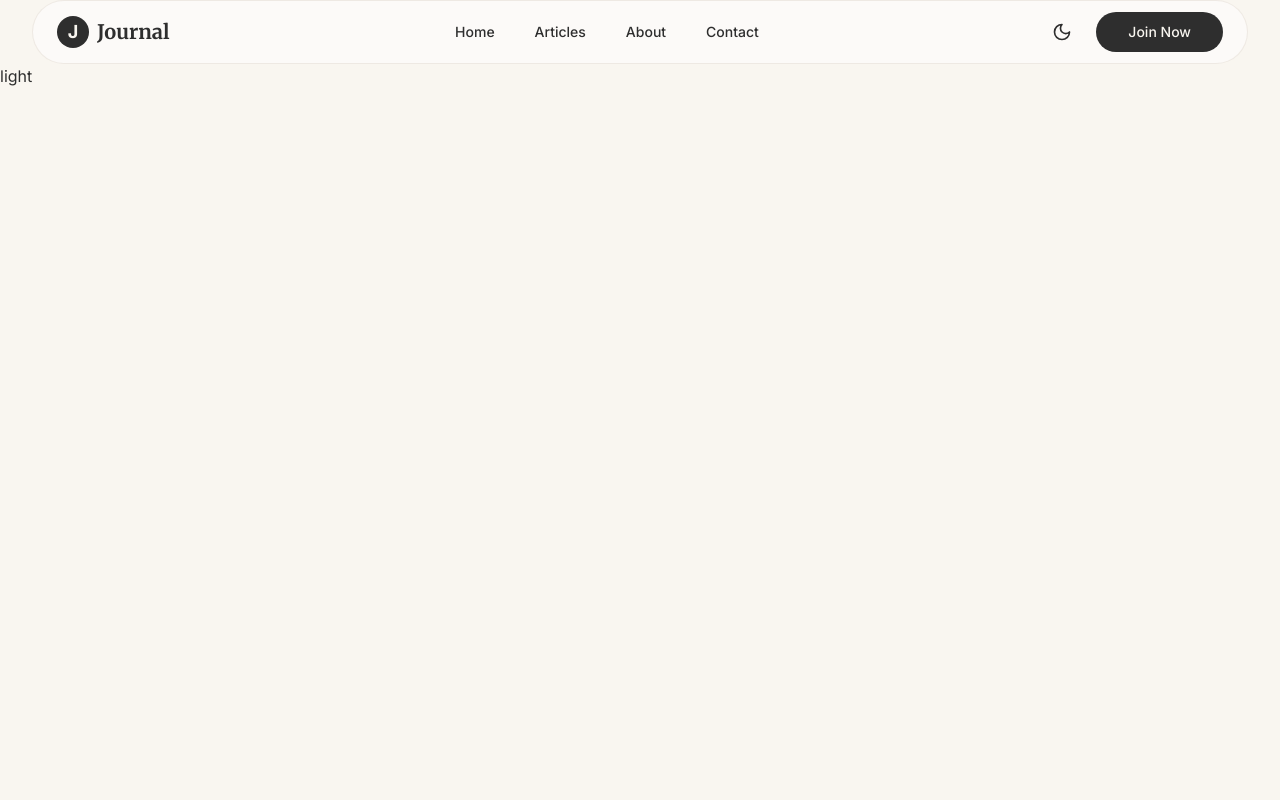
Test case: Navbar › toggles dark mode through the theme provider and remembers the choice
Step 1. Click the button named "Toggle theme" → click(1062, 32), box [1044,14,1080,50]
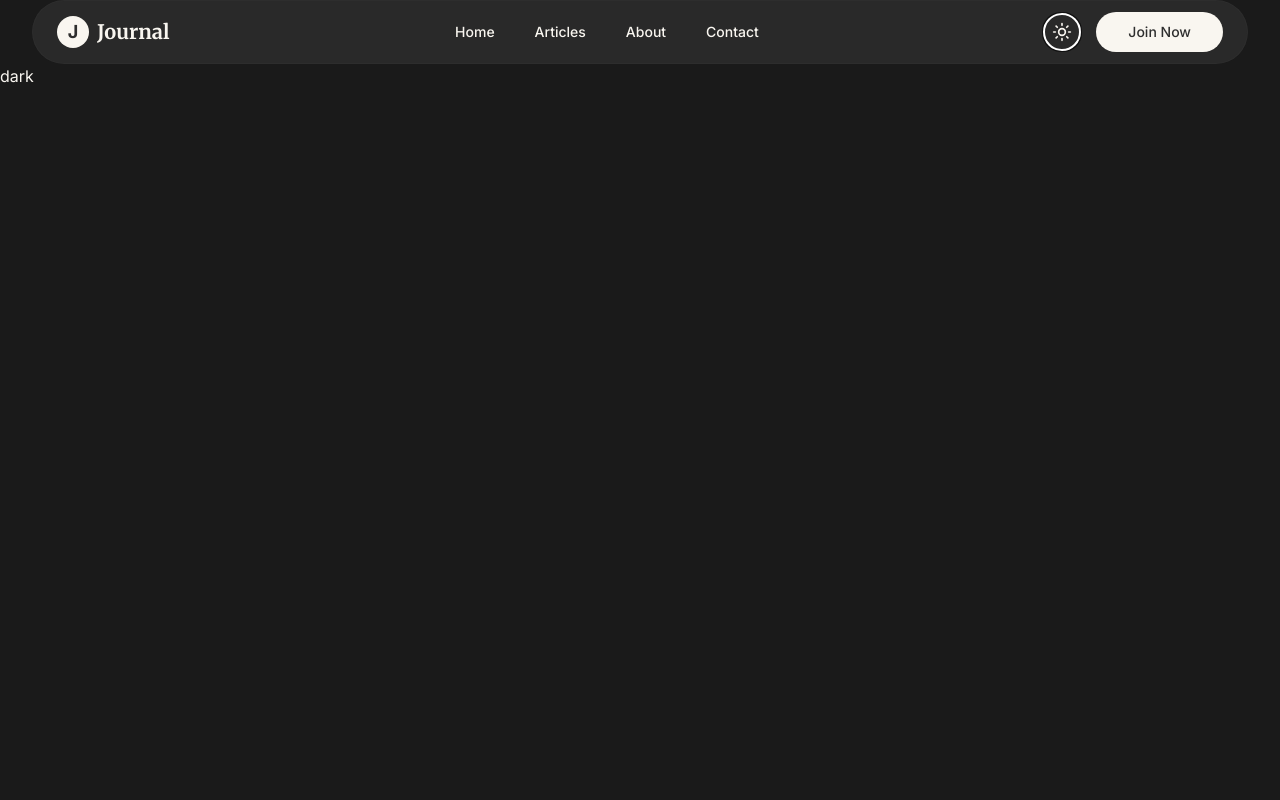
Now the text with test id "resolved-theme" reads "dark", box [0,66,34,86]
Step 2. Click the button named "Toggle theme" → click(1062, 32), box [1044,14,1080,50]
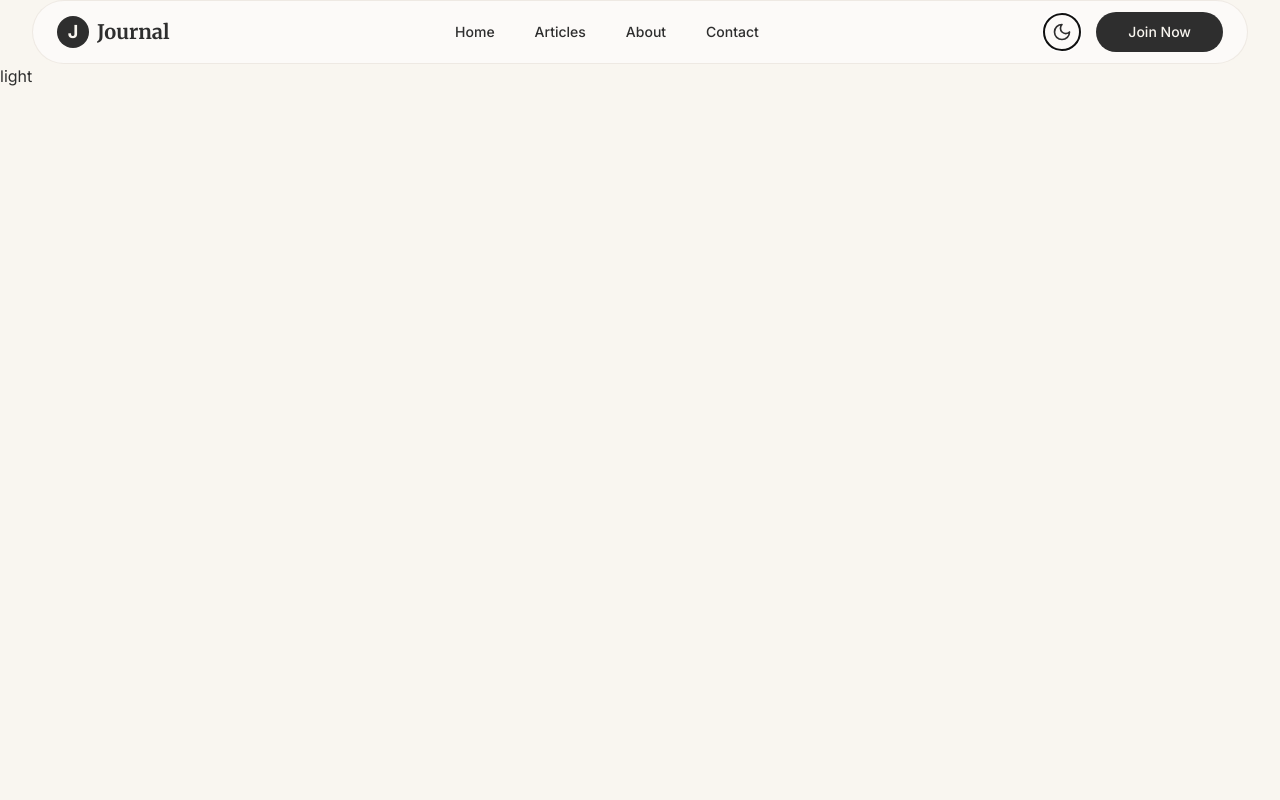
Now the text with test id "resolved-theme" reads "light", box [0,66,32,86]
